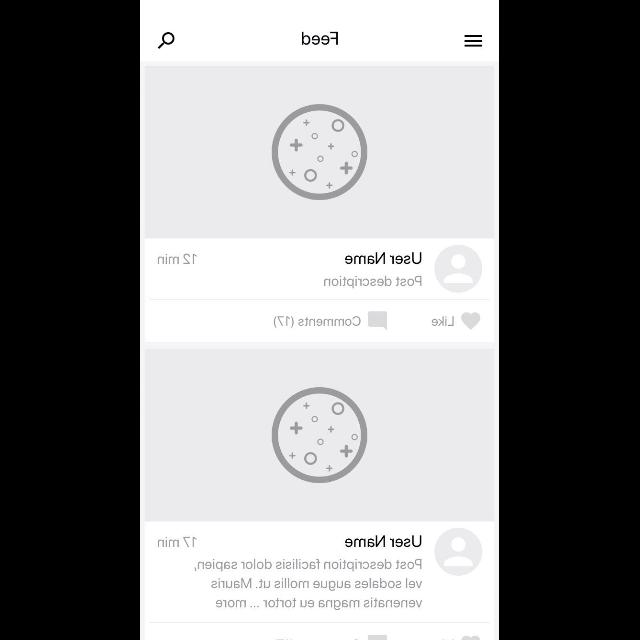icon: (435, 528, 483, 574), (436, 245, 482, 293), (368, 312, 388, 330), (462, 312, 481, 330), (158, 32, 175, 49), (465, 35, 483, 47)
image: (146, 67, 494, 239), (146, 350, 494, 522)
panel: (144, 66, 496, 344)
text: (193, 558, 423, 610), (325, 276, 423, 288), (346, 534, 422, 548), (274, 316, 360, 328), (346, 253, 422, 265), (302, 32, 340, 46), (158, 536, 196, 548), (158, 253, 198, 264), (432, 316, 454, 326)
